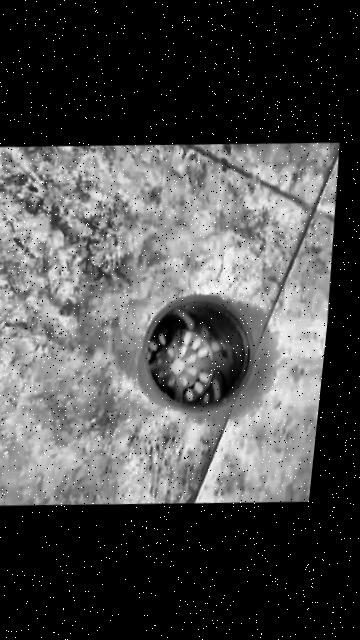pot: (132, 291, 262, 415)
